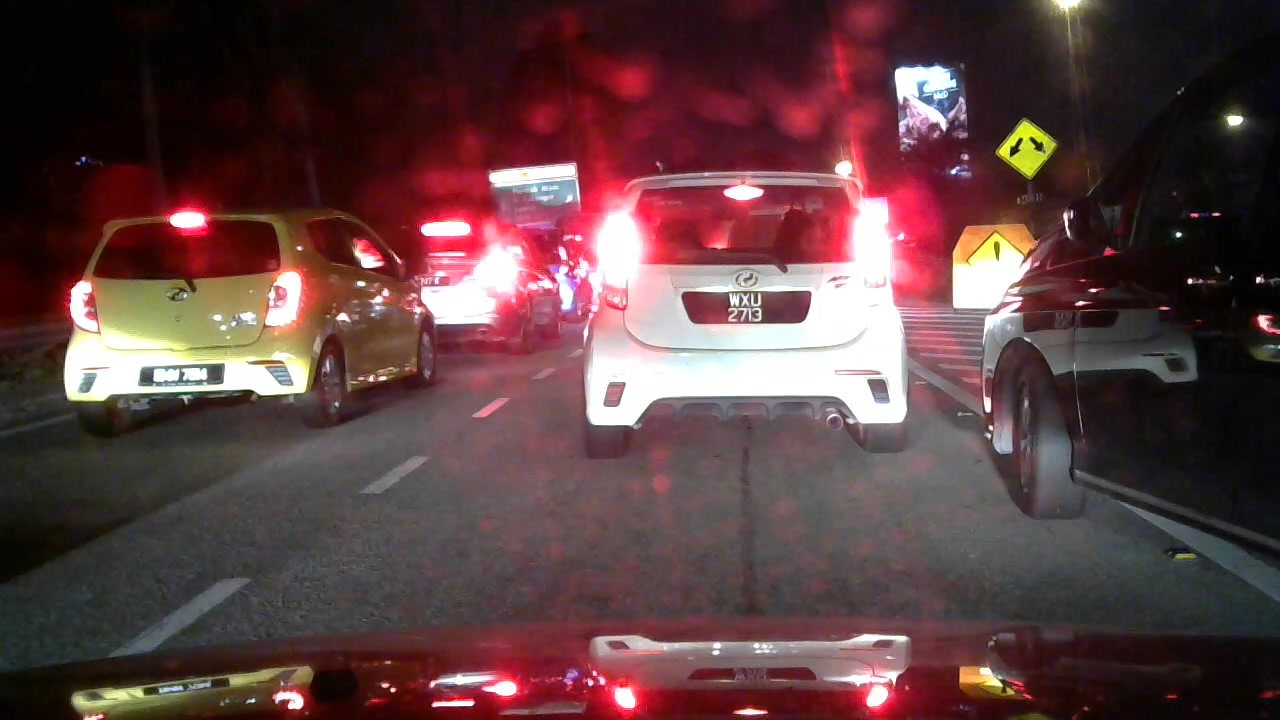Car: (974, 79, 1274, 551), (559, 167, 924, 471), (63, 201, 448, 422), (414, 203, 567, 356), (520, 223, 587, 315)
